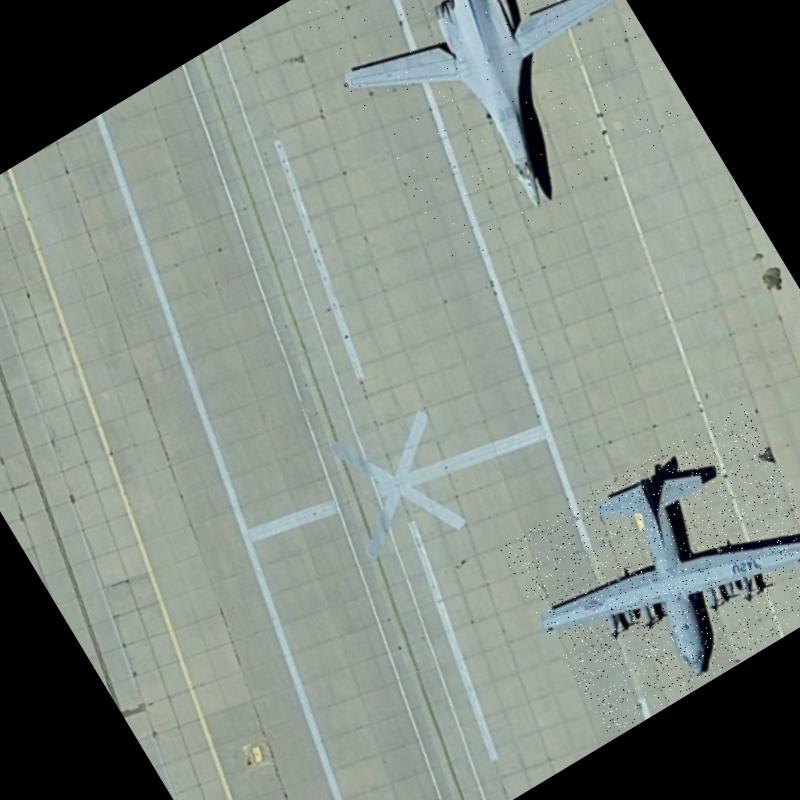A10: (293, 0, 698, 267)
A2: (497, 402, 800, 736)
